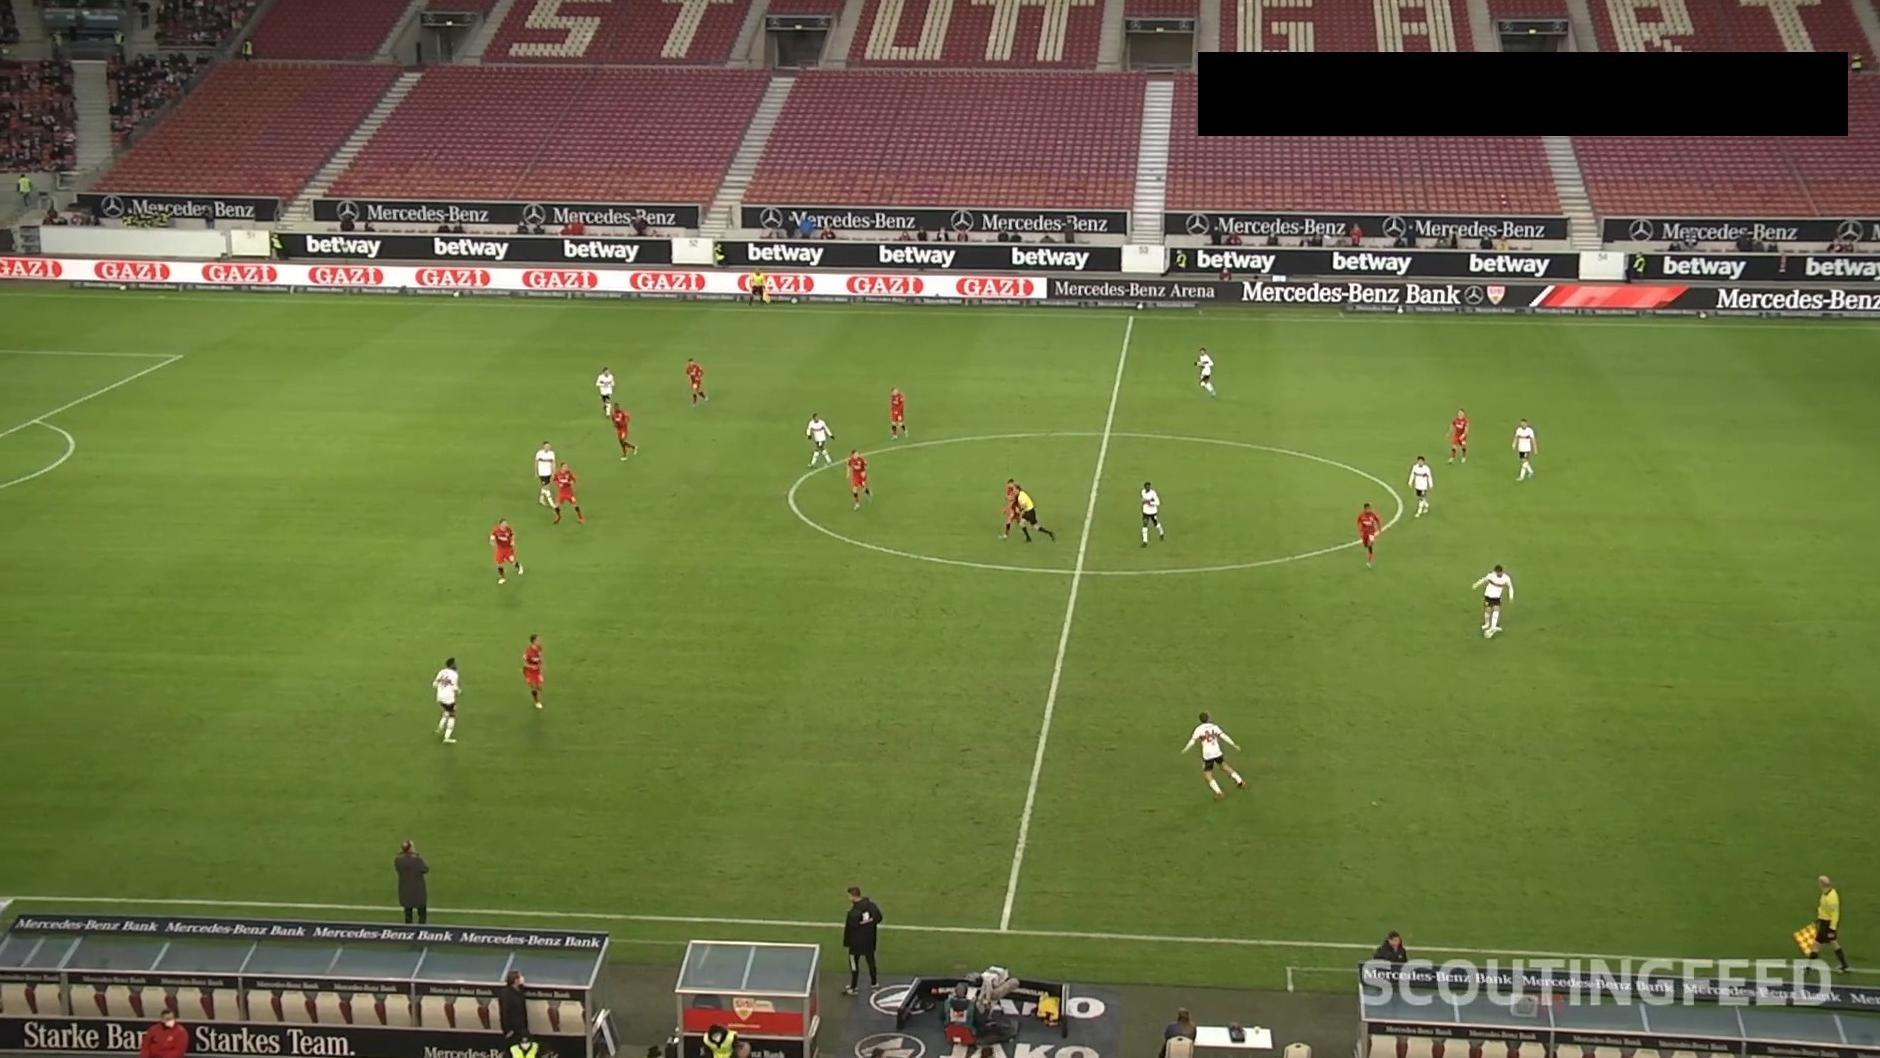ball: (1482, 625, 1497, 639)
